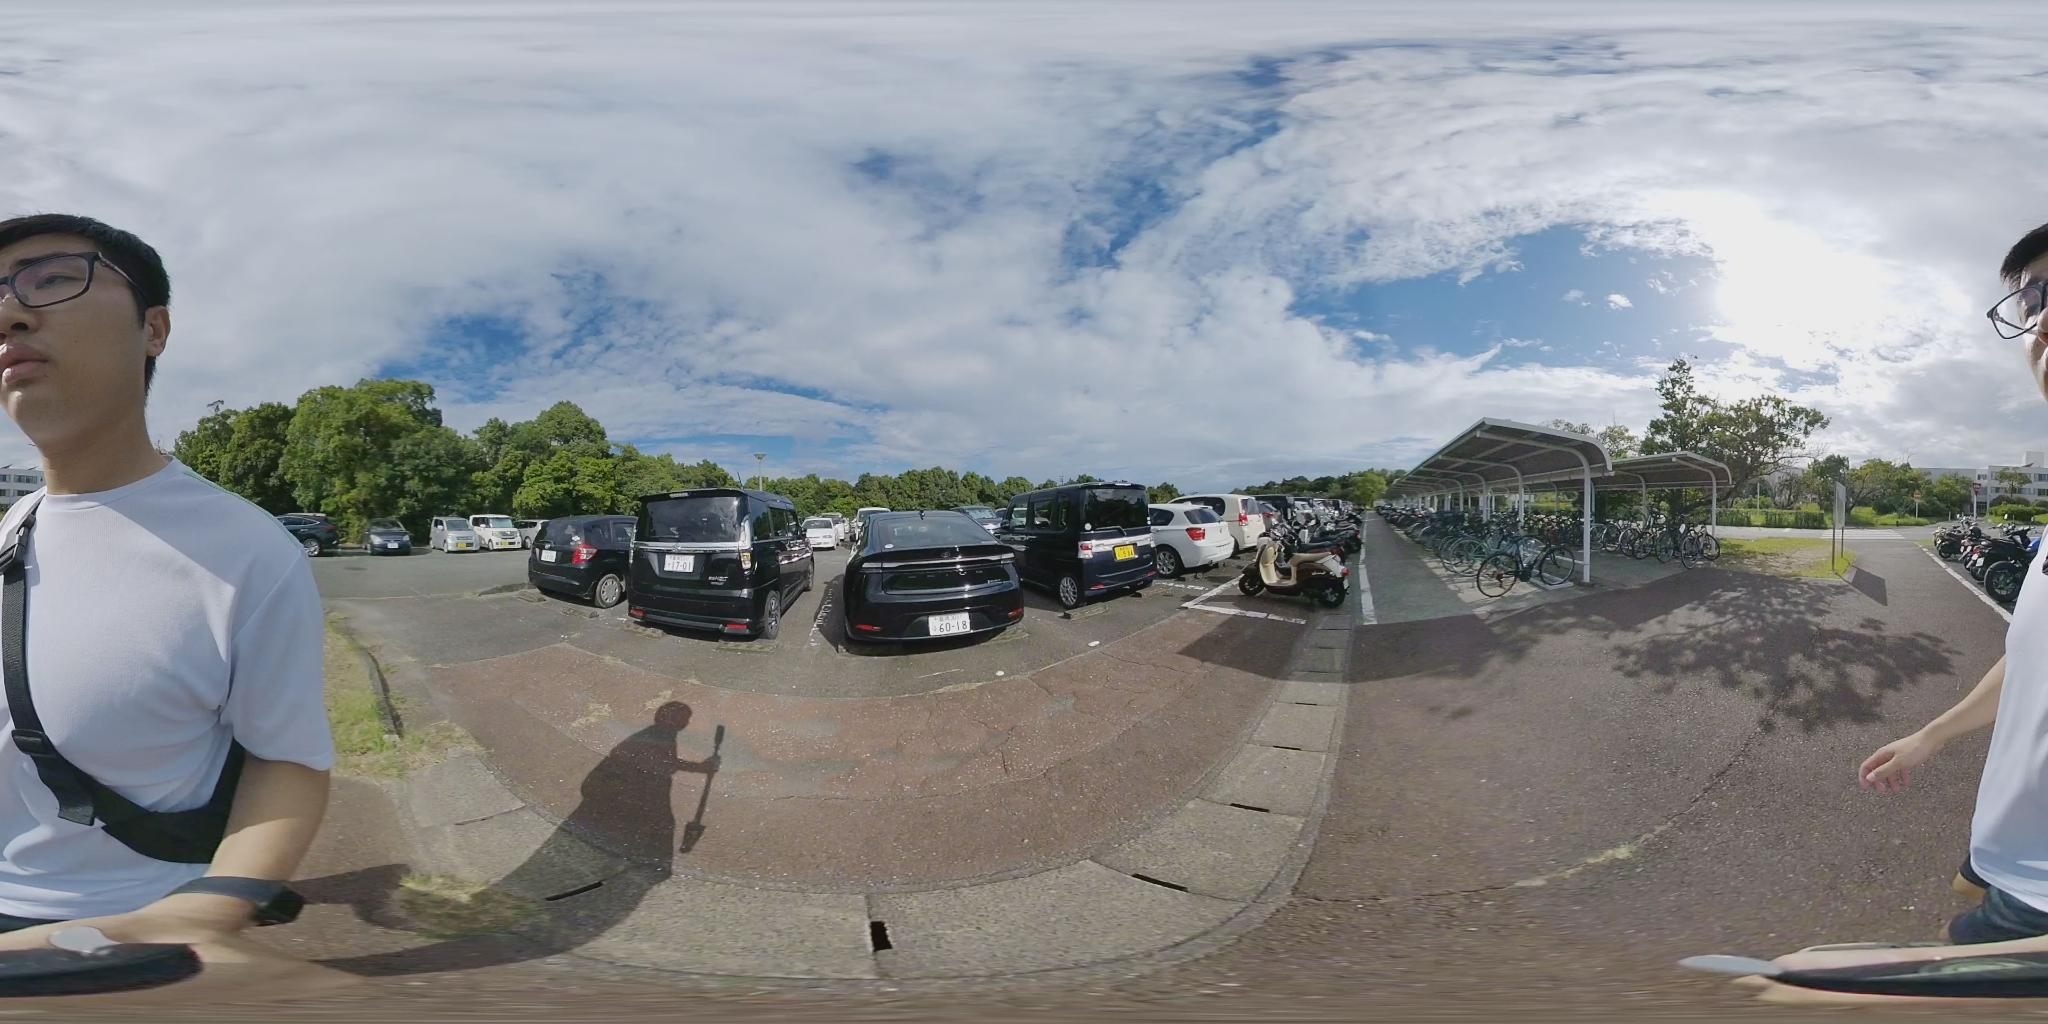car: (616, 482, 812, 639), (839, 512, 1029, 653), (1007, 487, 1159, 606), (529, 519, 637, 607), (277, 517, 333, 551), (795, 517, 846, 549), (372, 520, 419, 552)
